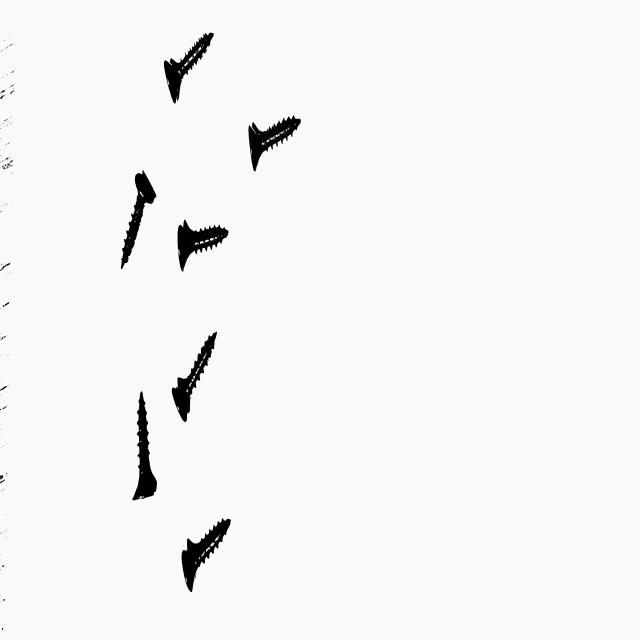Screw: (172, 331, 216, 421), (120, 169, 156, 268), (181, 519, 230, 591), (164, 30, 213, 101), (248, 113, 300, 169), (132, 391, 156, 500), (177, 219, 228, 269)
